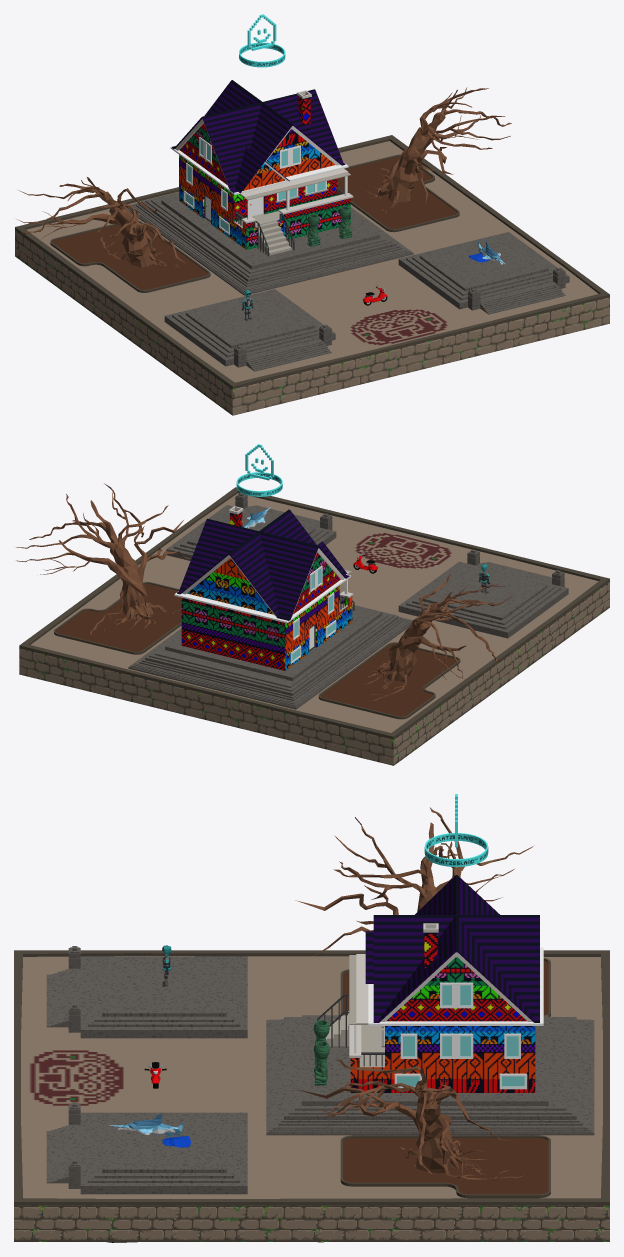
The picture shows the model from 3 angles, top to bottom: view 1: azimuth 30°, elevation 25°; view 2: azimuth 150°, elevation 25°; view 3: azimuth 270°, elevation 25°; orthographic projection. The views are drawn at different scales.
Visible parts, largest first — view 1: Cube.011, Cube.966, TYPE_PREMIUM; view 2: Cube.011, Cube.966, TYPE_PREMIUM; view 3: Cube.011, Cube.966, TYPE_PREMIUM, ANIMAL_PEZ_ESPADA.
Boxes of the visible parts, x1,y1,x2,y2 form: Cube.011: (15, 87, 609, 415); Cube.966: (170, 80, 353, 256); TYPE_PREMIUM: (239, 14, 285, 67); Cube.011: (16, 483, 609, 765); Cube.966: (174, 506, 354, 670); TYPE_PREMIUM: (236, 444, 282, 496); Cube.011: (14, 807, 609, 1241); Cube.966: (317, 875, 543, 1092); TYPE_PREMIUM: (424, 794, 488, 866); ANIMAL_PEZ_ESPADA: (108, 1113, 190, 1147).
Size of the model in its own units: 5099 by 2440 by 4000.
Materials: 42 (10 with a texture image).
